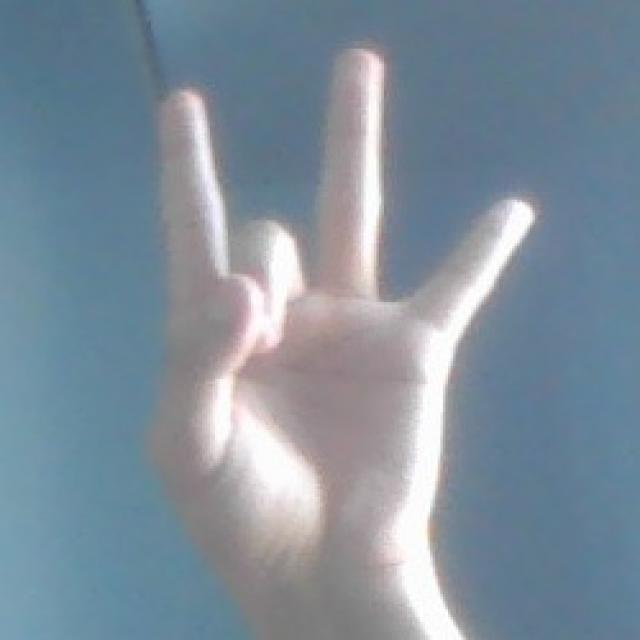Numeric-8: (156, 39, 537, 576)
